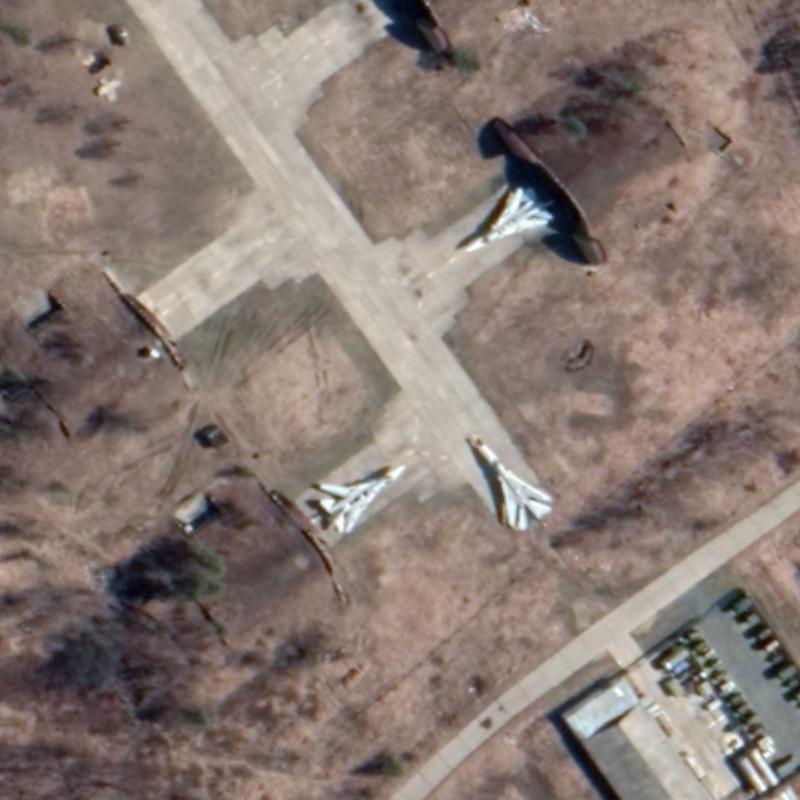A20: (470, 432, 554, 532), (455, 184, 556, 259), (317, 463, 408, 535)
